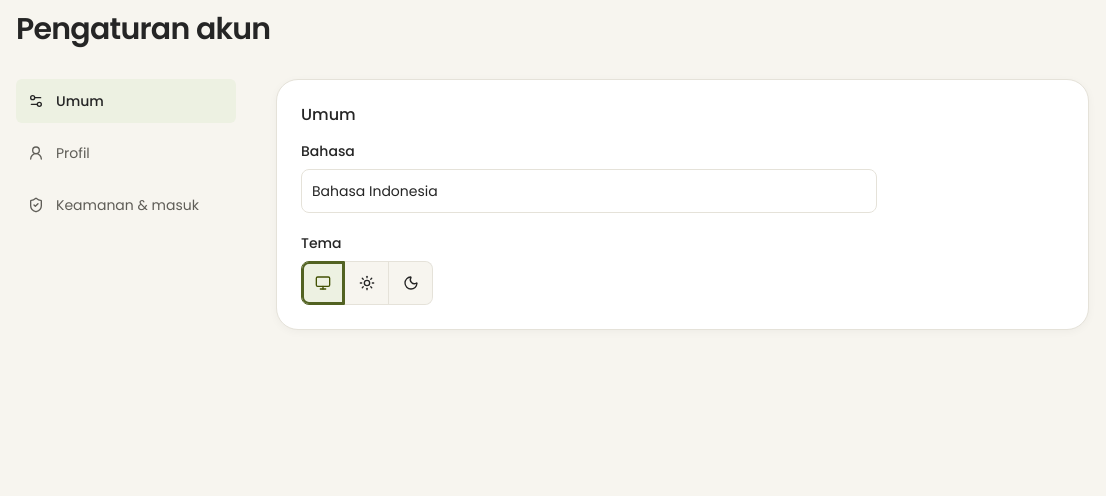
Test: SettingsView › mengubah nama profil setelah bagian Profil dibuka dan menjaga email hanya-baca
The width and height of the screenshot is (1106, 496).
What coordinates should you click on to do the following:
click the button "Profil"
I would click on:
 (126, 153)
Its box is [16,131,236,175].
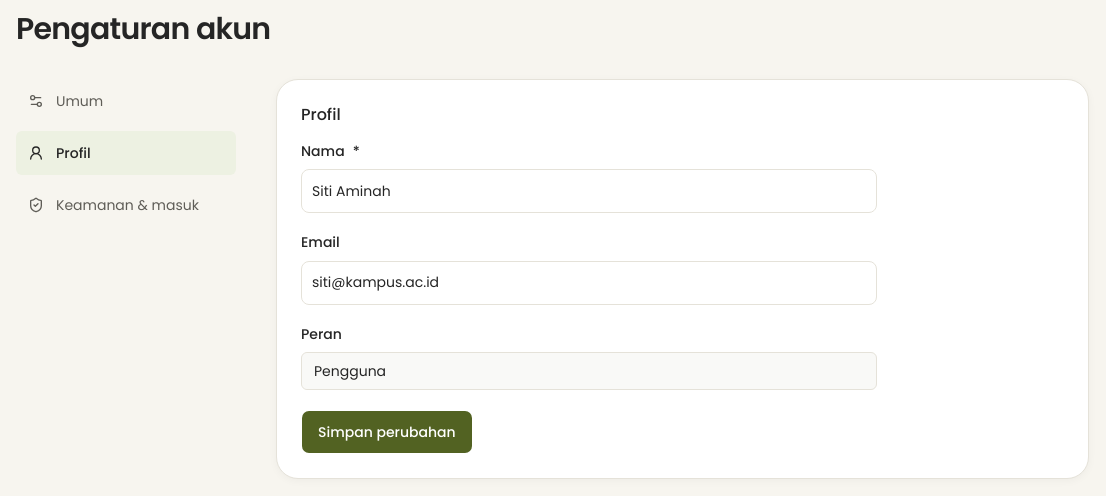
Check: the field labelled "Nama *" holds "Siti Aminah", box [301,169,877,213]
Check: the field labelled "Email" holds "siti@kampus.ac.id", box [301,260,877,304]
Check: the text "Pengguna" is shown, box [301,352,877,390]
